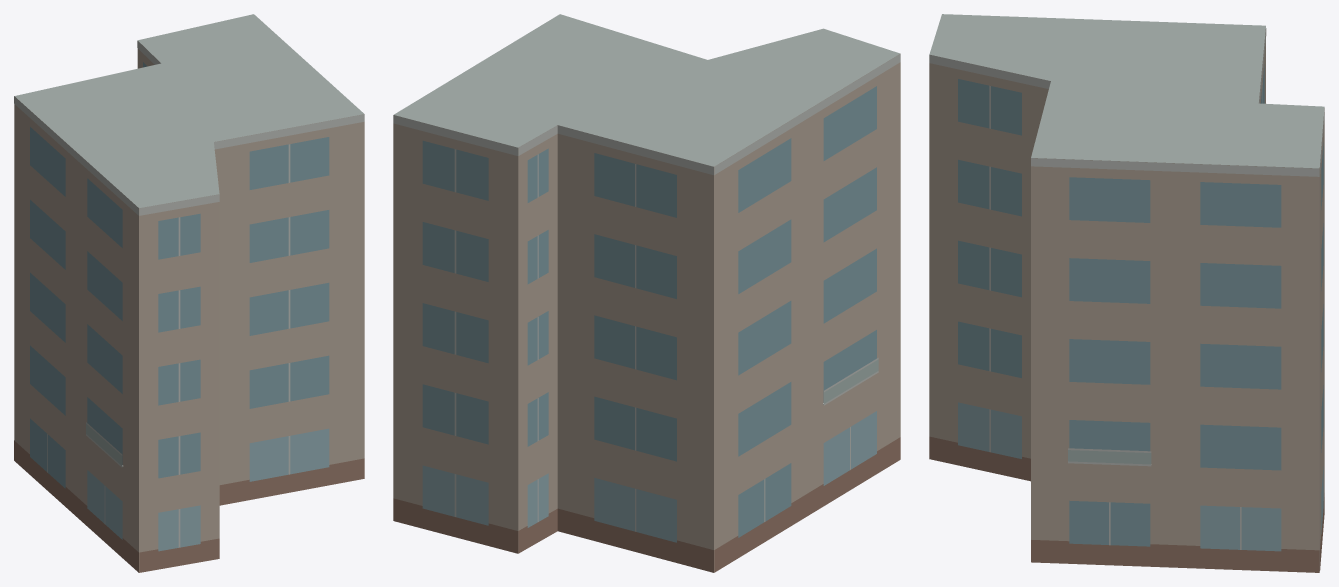
File: survey-upis-32728701.glb
3 views of the same model, side by side, from view 1: azimuth 30°, elevation 25°; view 2: azimuth 150°, elevation 25°; view 3: azimuth 270°, elevation 25° (orthographic). The views are drawn at different scales.
Visible parts, largest first — view 1: survey-upis-32728701.tmp; view 2: survey-upis-32728701.tmp; view 3: survey-upis-32728701.tmp.
Boxes of the visible parts, bbox=[...] form: survey-upis-32728701.tmp: bbox=[14, 14, 364, 572]; survey-upis-32728701.tmp: bbox=[393, 14, 900, 572]; survey-upis-32728701.tmp: bbox=[929, 14, 1324, 572].
Size of the model in its own units: 9.5 by 11.6 by 10.28.
